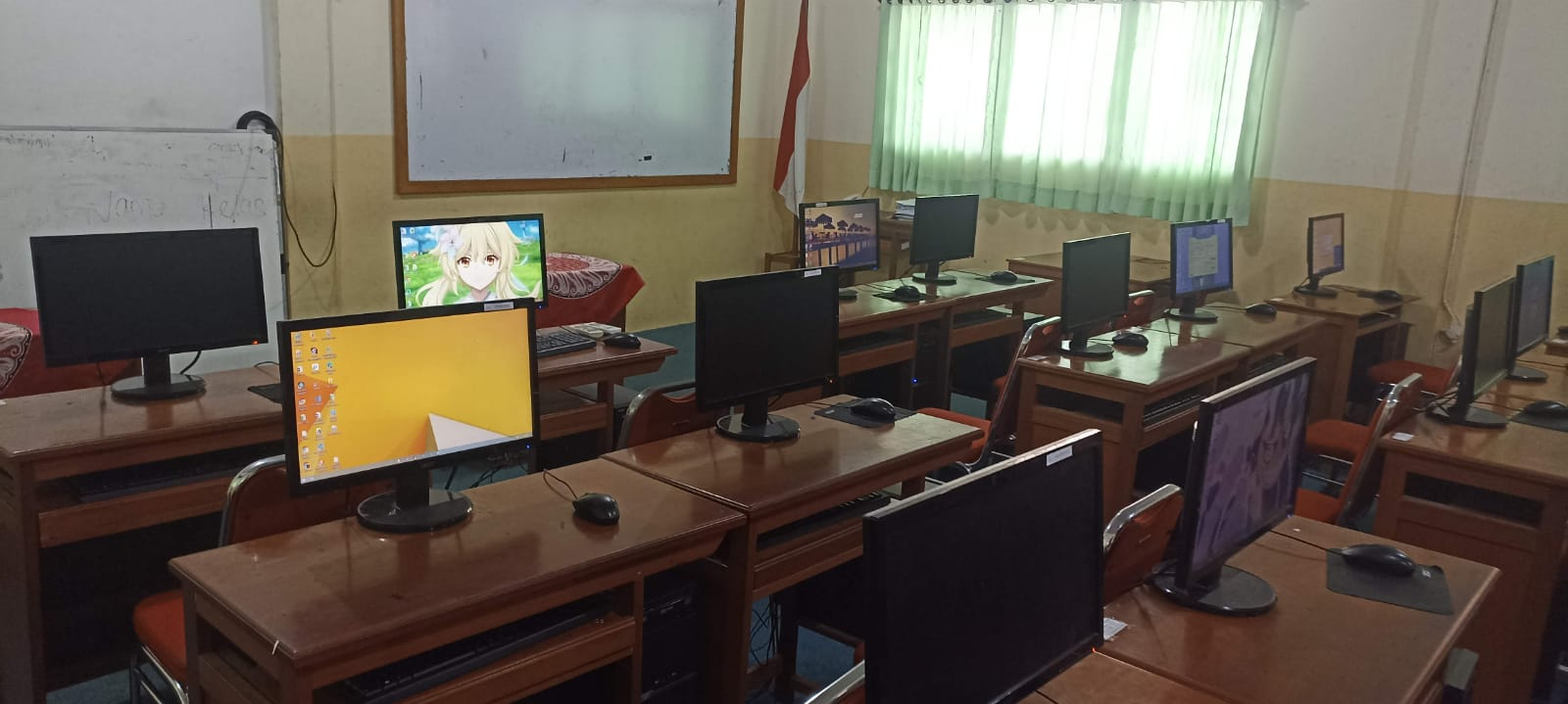monitor: (391, 0, 746, 197), (862, 427, 1106, 701), (277, 301, 542, 503), (1169, 353, 1316, 599), (29, 226, 269, 370), (693, 266, 841, 415), (391, 212, 549, 312), (1060, 232, 1132, 352), (1462, 270, 1517, 404), (798, 199, 881, 276), (906, 194, 980, 268), (1172, 218, 1234, 299), (1512, 254, 1556, 364), (1306, 212, 1345, 280)
